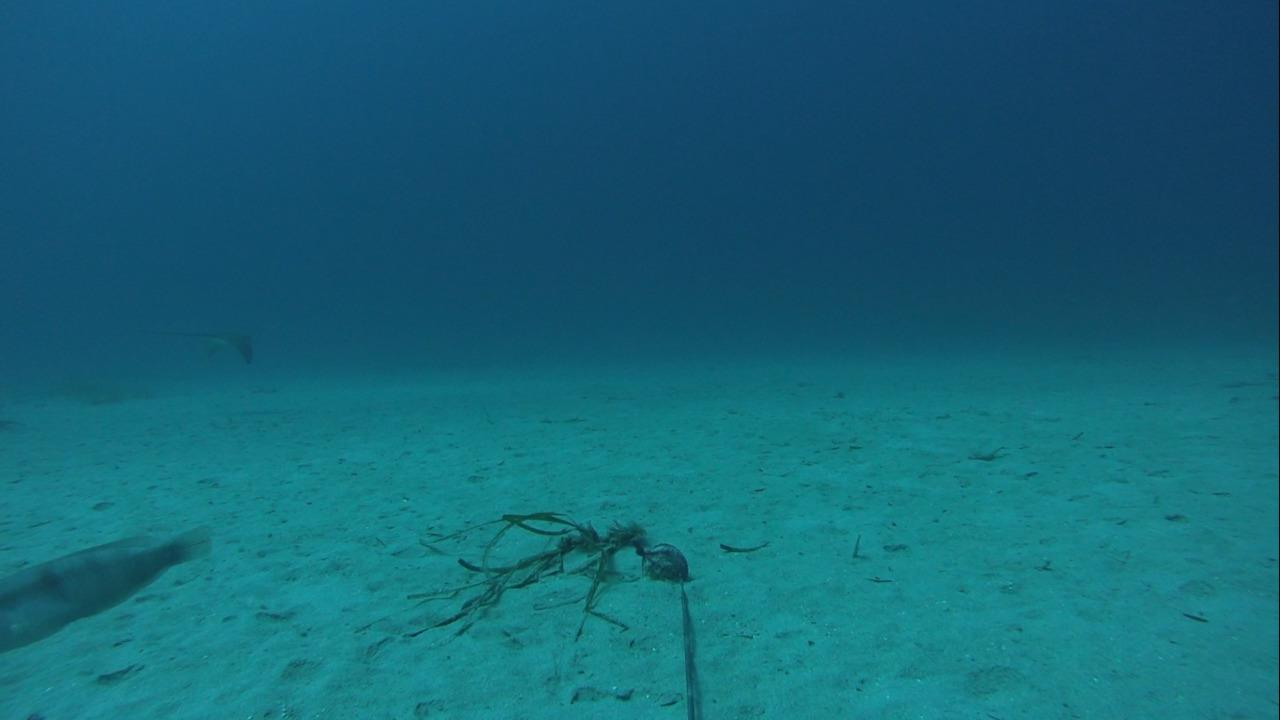myliobatis: (118, 312, 264, 372)
raor: (4, 521, 211, 653)
